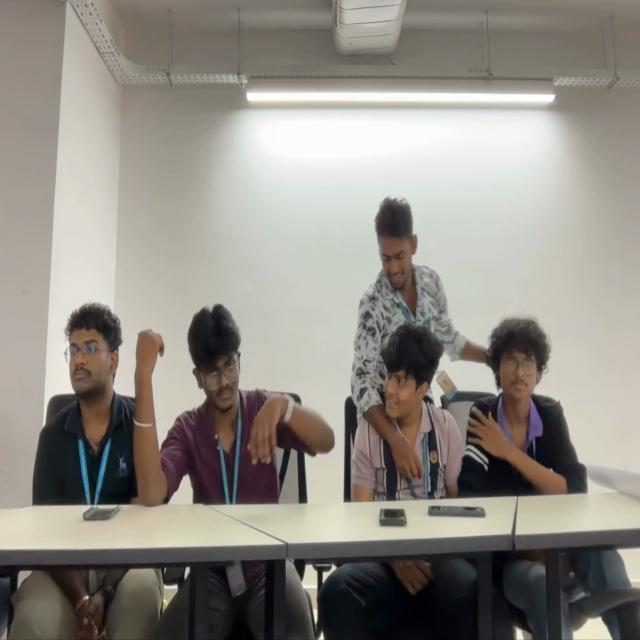Isolated: (138, 304, 336, 503), (33, 304, 133, 494)
socializing: (351, 187, 586, 494)
